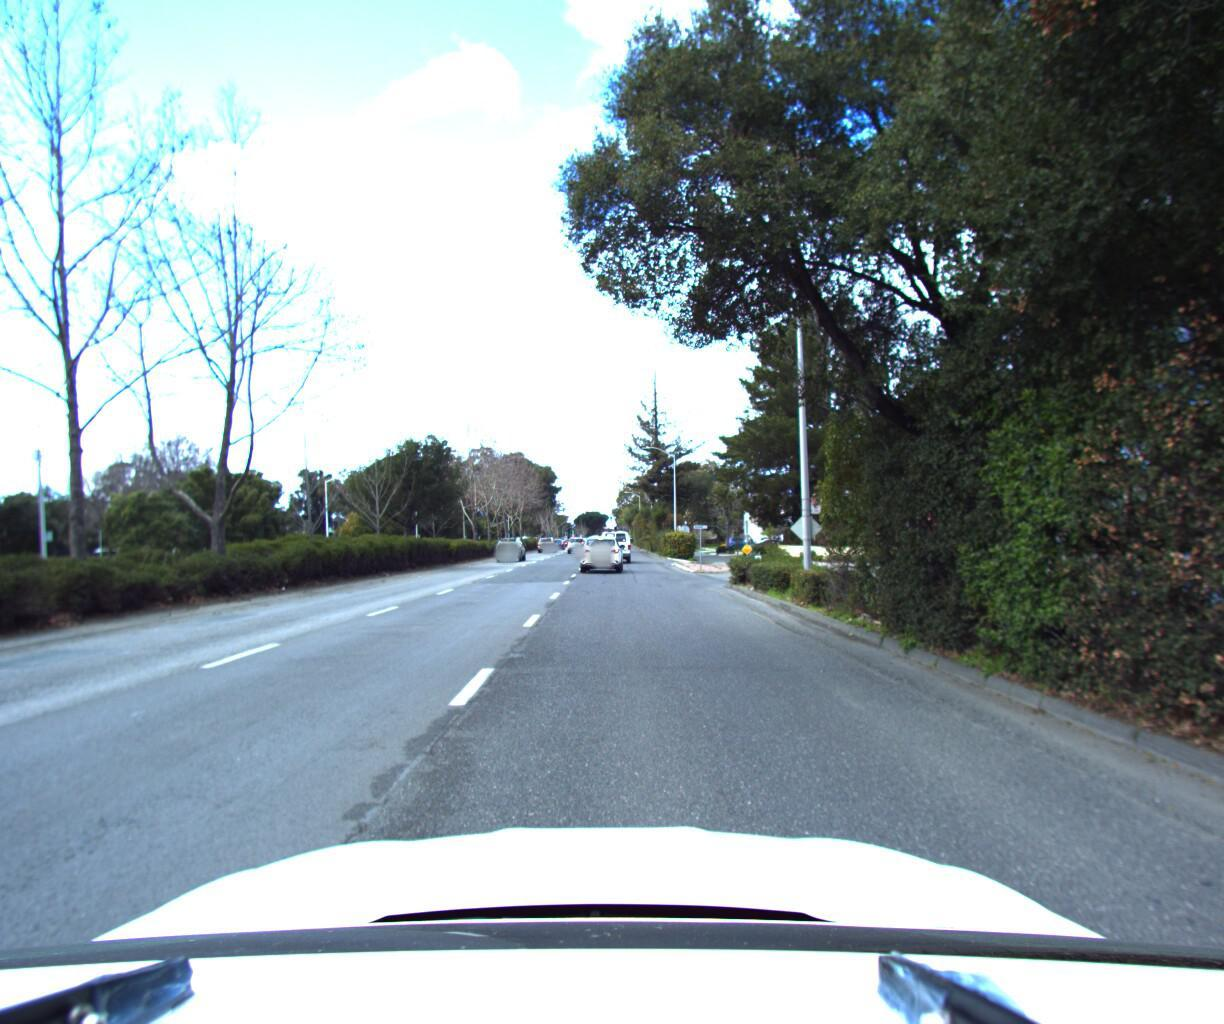car: (576, 534, 625, 577), (599, 526, 638, 566), (496, 538, 529, 565), (570, 538, 591, 557)
